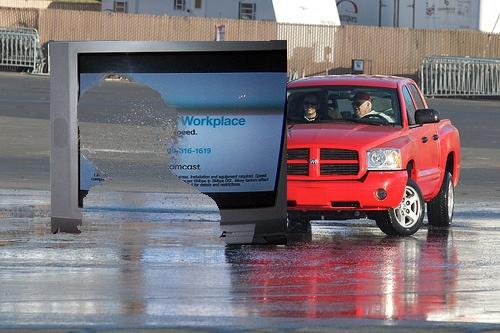tampered: (49, 41, 287, 245)
